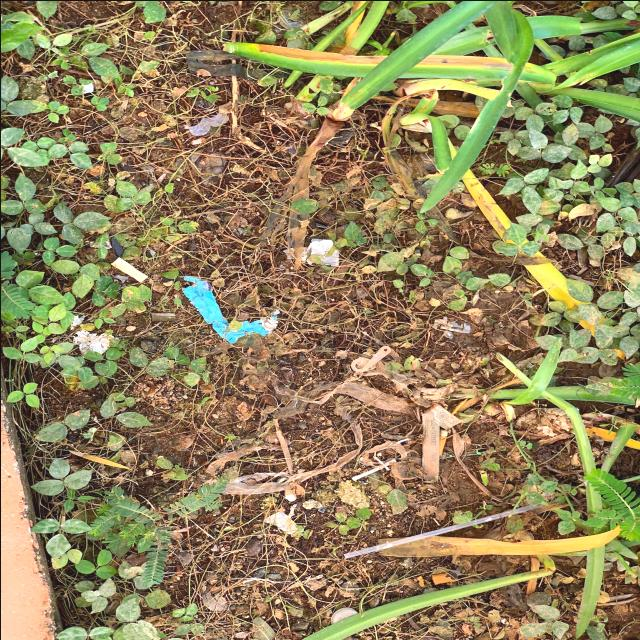Cigarette: (110, 255, 148, 281), (432, 571, 455, 583), (440, 429, 449, 455)
Other plastic: (299, 238, 338, 266)
Other plastic bottle: (182, 110, 230, 135), (350, 345, 391, 371)
Plastic bottle cap: (330, 607, 357, 623)
Plastic straw: (342, 502, 542, 558)
Unlabeled litter: (422, 404, 462, 478), (72, 328, 119, 352), (351, 458, 395, 480), (433, 316, 469, 332), (82, 81, 91, 92)
Wrapping paper: (182, 275, 277, 342)
